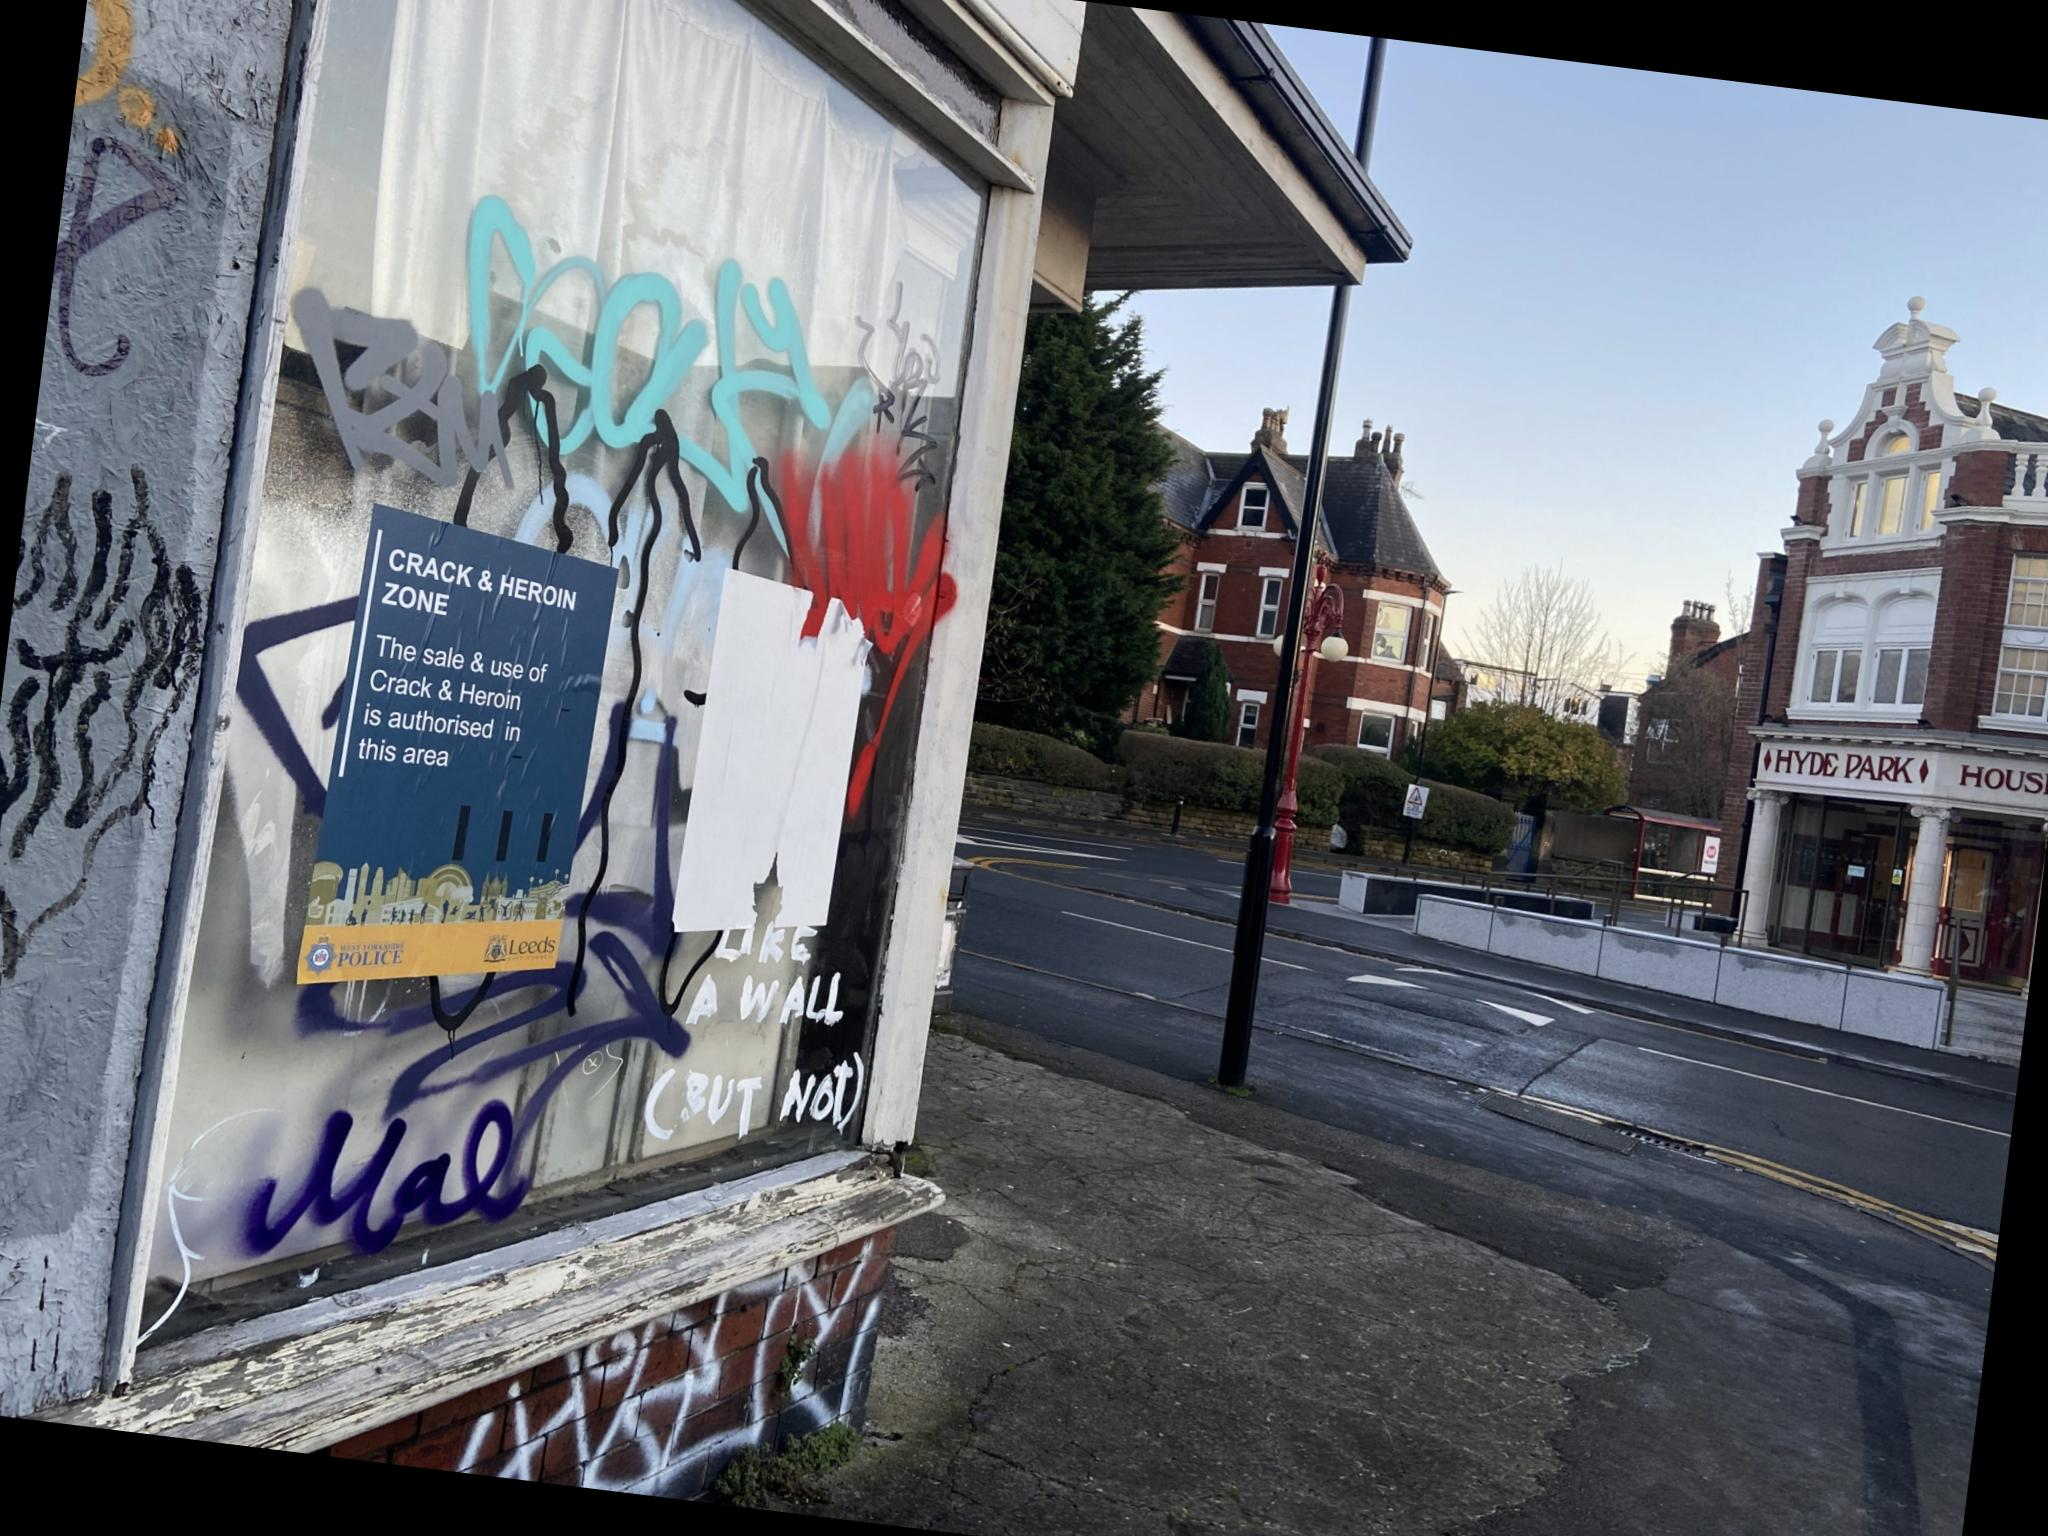graffiti: (168, 171, 992, 1346), (0, 0, 293, 1055), (371, 1175, 890, 1520)
